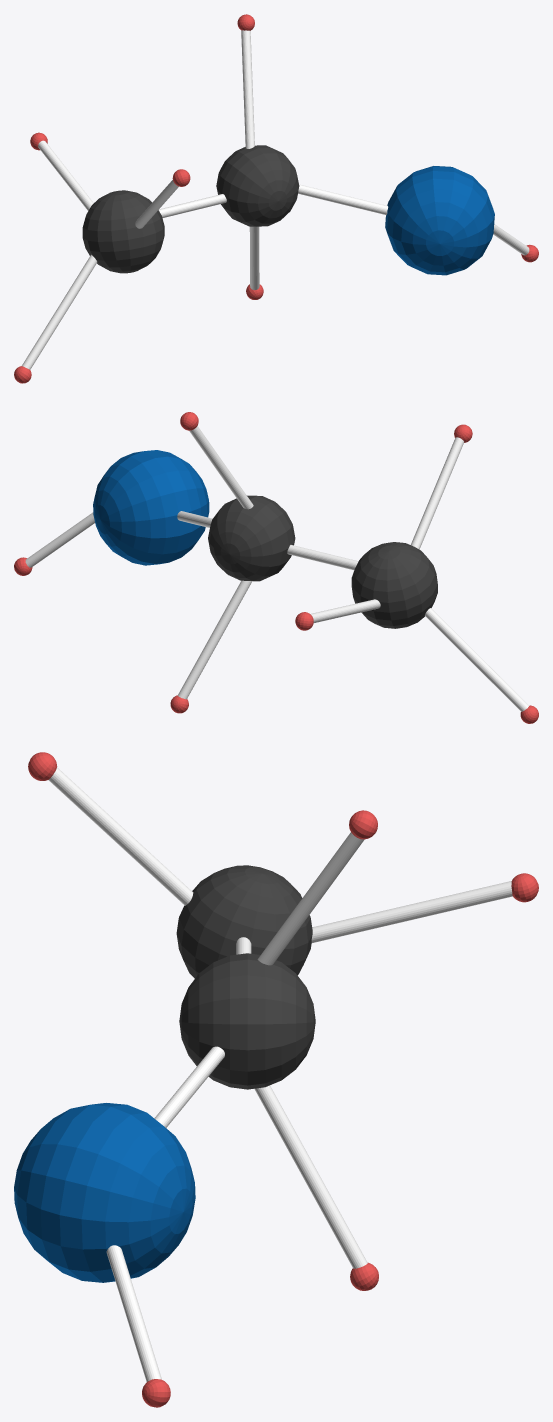
3 renders of one model, top to bottom at view 1: azimuth 30°, elevation 25°; view 2: azimuth 150°, elevation 25°; view 3: azimuth 270°, elevation 25°, orthographic. The views are drawn at different scales.
Parts seen in each view (by area): view 1: ethanol alcohol; view 2: ethanol alcohol; view 3: ethanol alcohol.
Part boxes in pixels (<box>): ethanol alcohol: <box>14,14,538,383</box>; ethanol alcohol: <box>14,412,538,723</box>; ethanol alcohol: <box>14,752,538,1407</box>.
Size of the model in its own units: 93.34 by 50.18 by 50.71.
